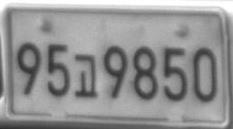0: (191, 46, 218, 102)
5: (162, 47, 188, 101), (46, 43, 71, 96)
8: (132, 44, 158, 100)
9: (16, 41, 42, 95), (102, 44, 128, 98)
고: (73, 53, 98, 98)
